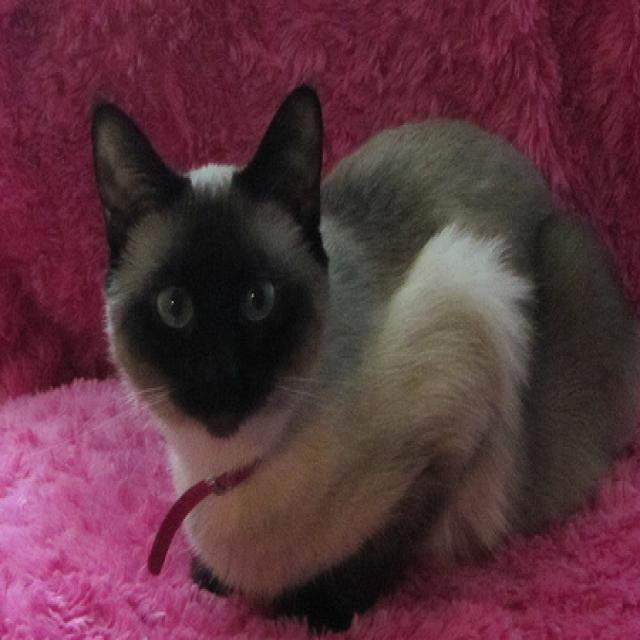Siamese: (87, 74, 640, 638)
